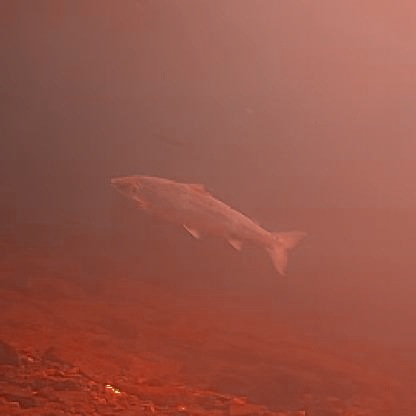salmon: (104, 166, 309, 274)
